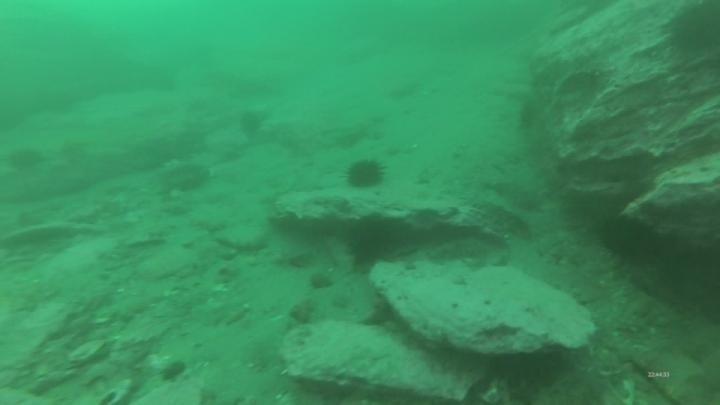echinus: (596, 211, 661, 268), (664, 1, 720, 60), (344, 217, 400, 270), (343, 155, 387, 192), (236, 107, 266, 140)
